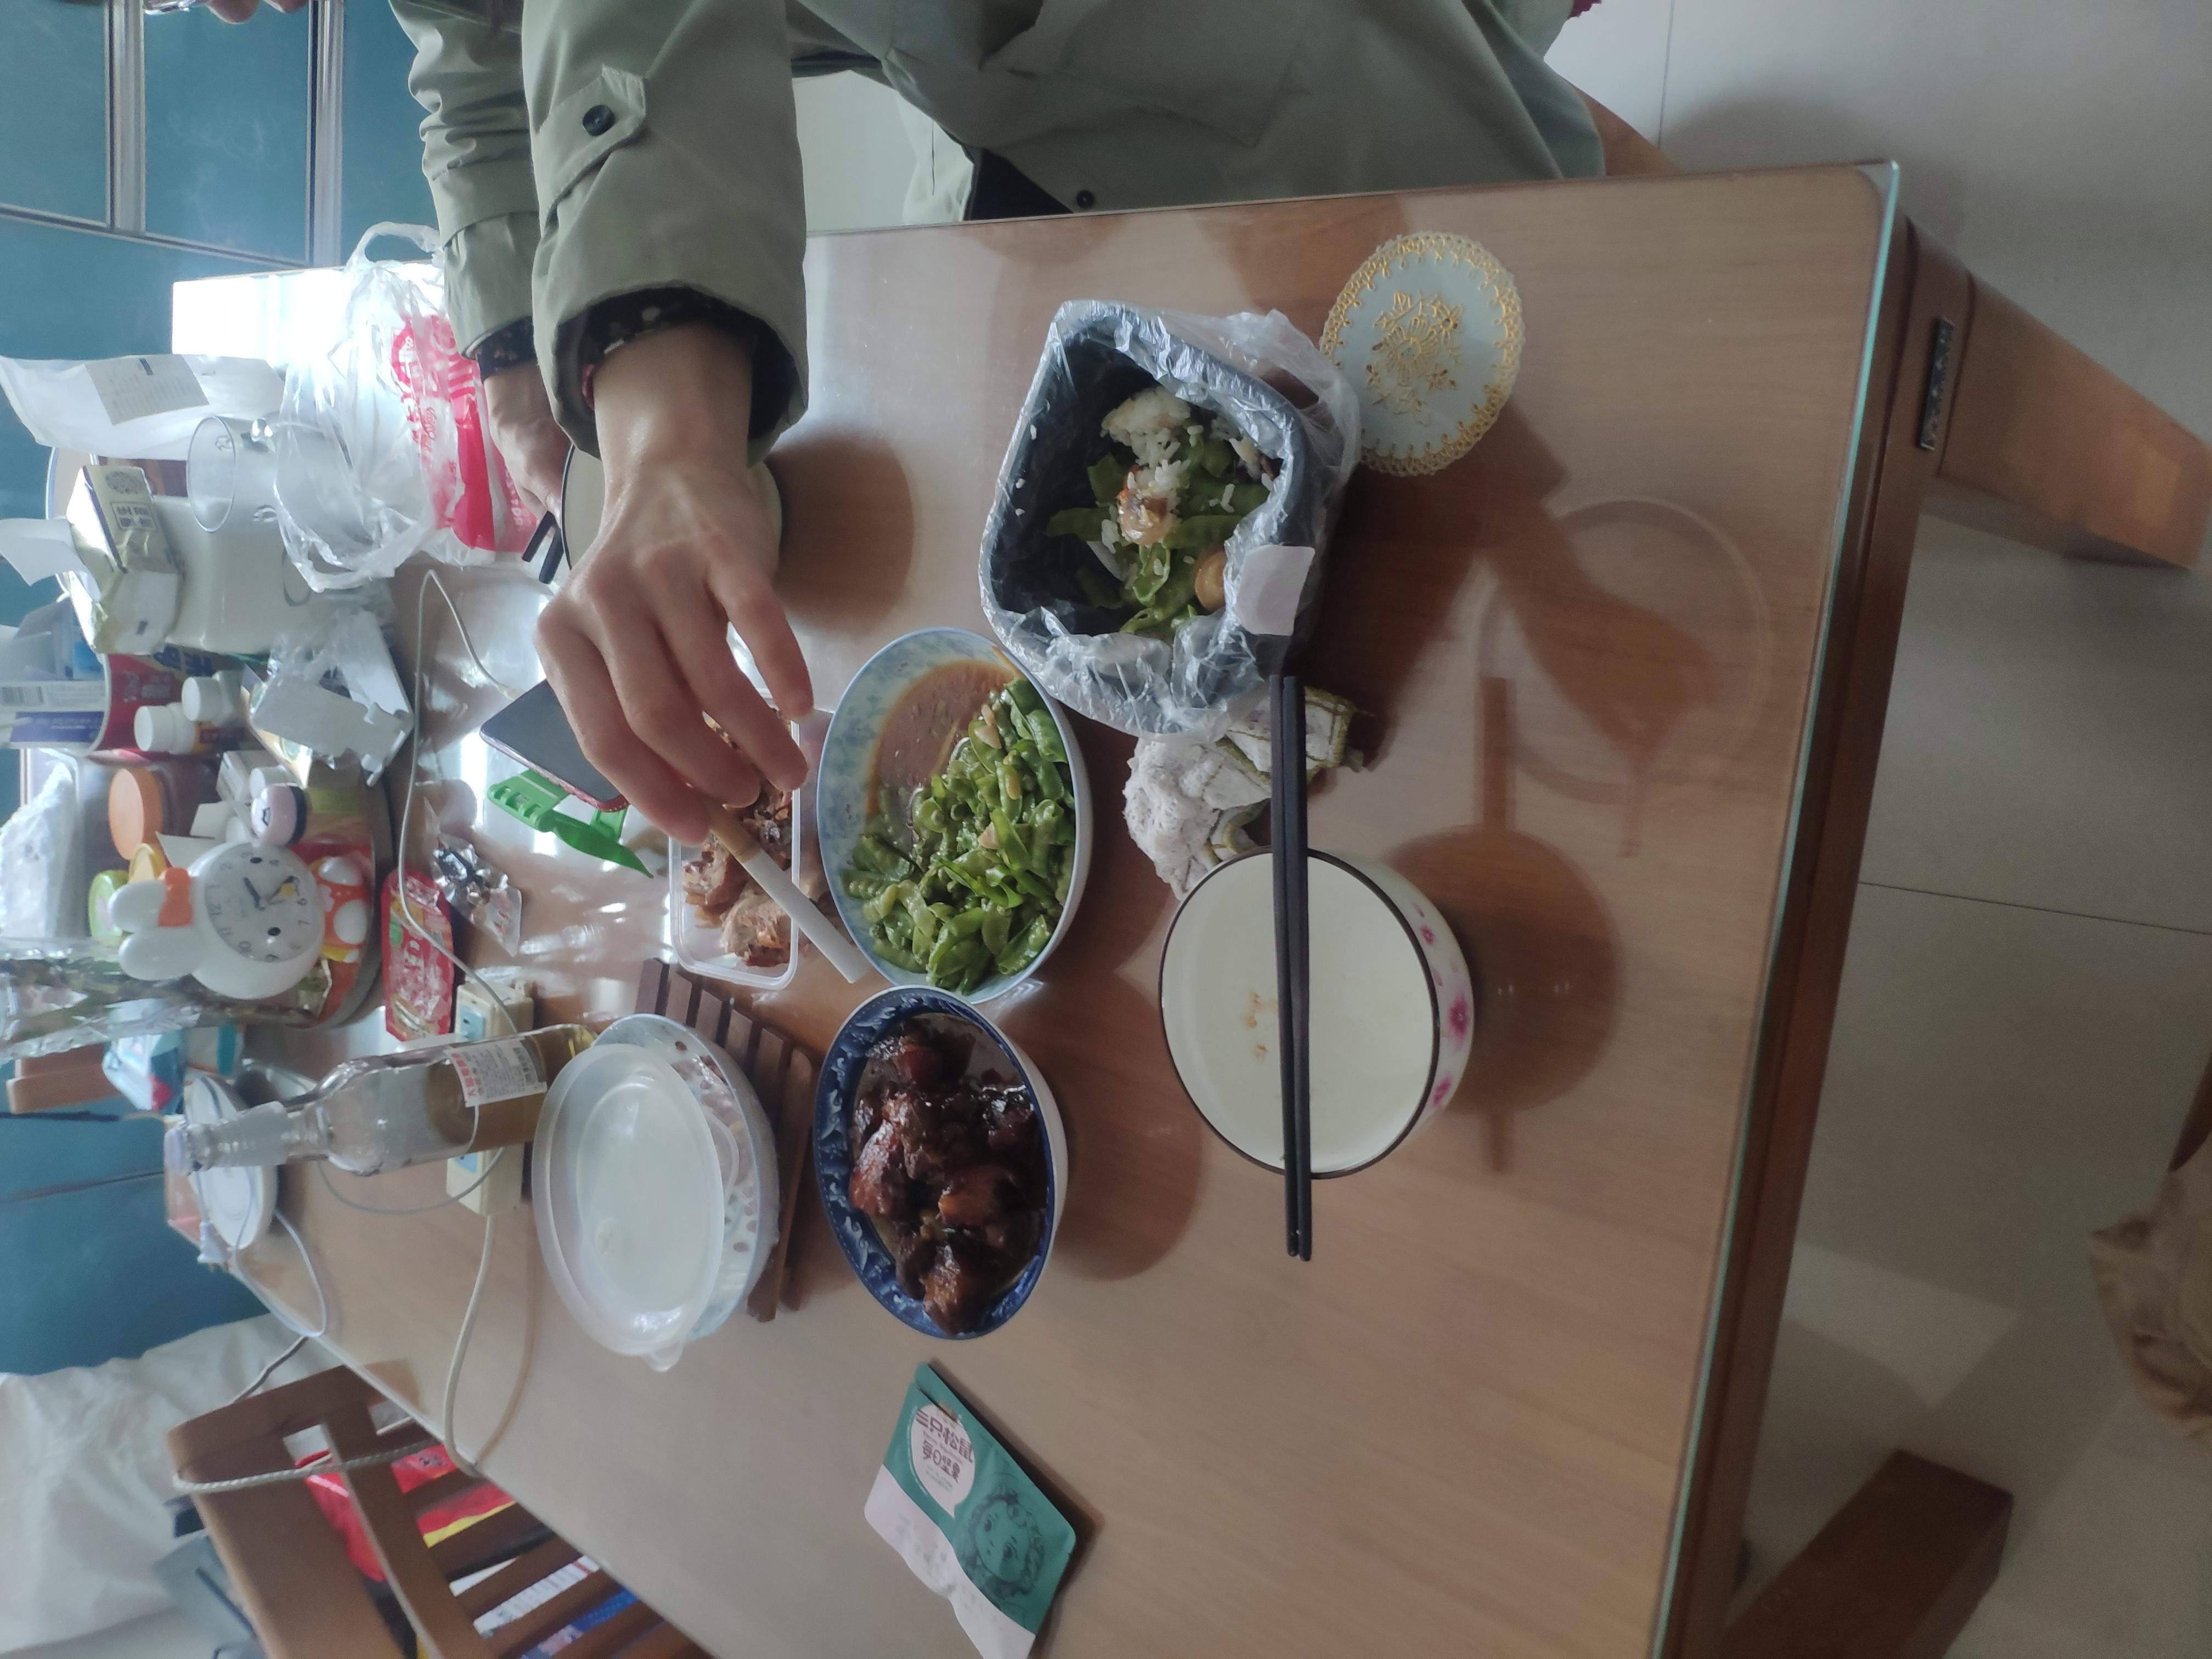smoke: (900, 509, 1174, 653)
